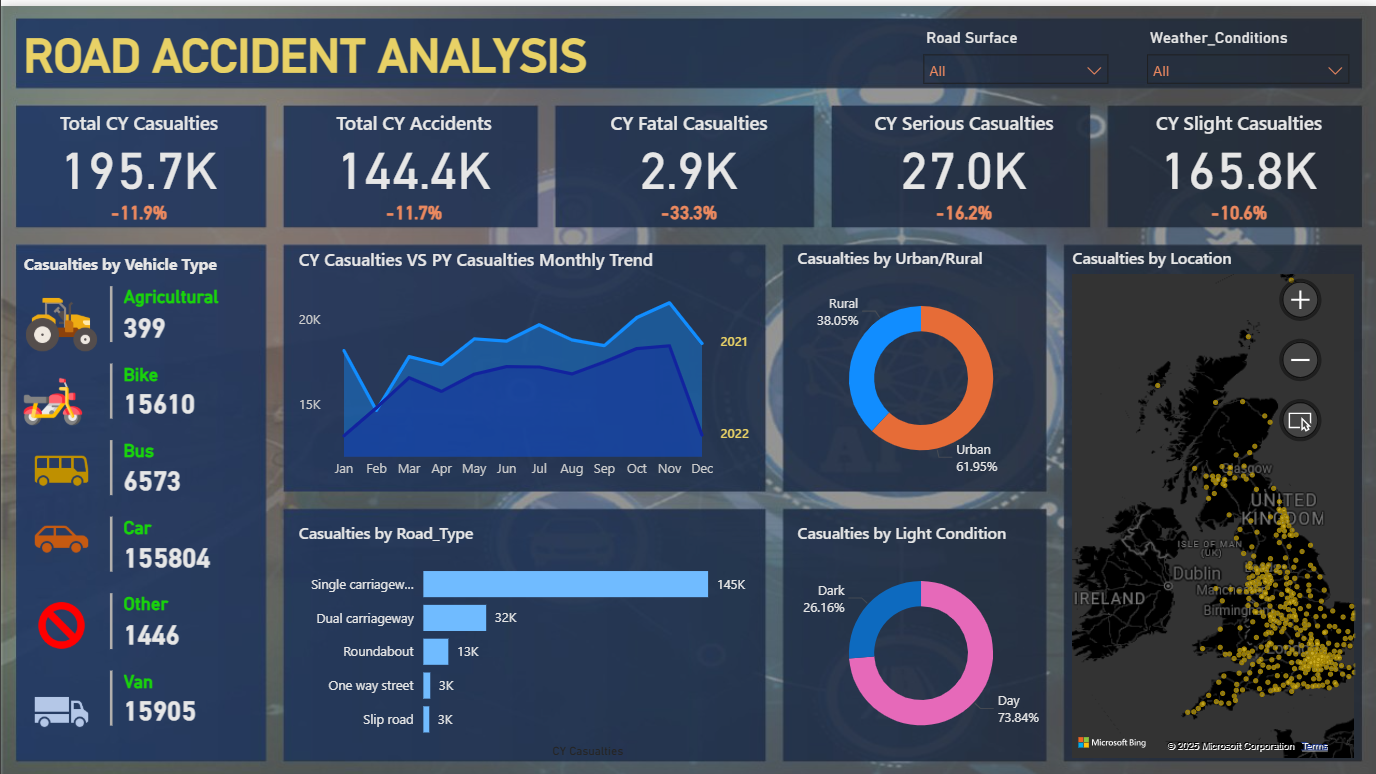

The dashboard page shown, as its layout file describes it:
{"tool":"powerbi","page":{"name":"Page 1","canvas":[1280,720],"ordinal":0},"visuals":[{"type":"group","id":"g1","title":"Group 1","box":[16,96,224,112],"z":0},{"type":"card","title":"Total CY Casualties","fields":{"Values":["Data.CY Casualties"]},"box":[16,96,224,80],"z":0,"group":"g1"},{"type":"card","title":"Total CY Accidents","fields":{"Values":["Data.CY Accidents"]},"box":[272,96,224,80],"z":0,"group":"g2"},{"type":"card","title":"CY Fatal Casualties","fields":{"Values":["Data.CY Casualties"]},"box":[528,96,224,80],"z":0,"group":"g3"},{"type":"card","title":"CY Serious Casualties","fields":{"Values":["Data.CY Casualties"]},"box":[784,96,224,80],"z":0,"group":"g4"},{"type":"card","title":"CY Slight Casualties","fields":{"Values":["Data.CY Casualties"]},"box":[1040,96,224,80],"z":0,"group":"g5"},{"type":"group","id":"g2","title":"Group 1","box":[272,96,224,112],"z":1000},{"type":"card","fields":{"Values":["Data.YOY Casualties"]},"box":[80,176,96,32],"z":1000,"group":"g1"},{"type":"card","fields":{"Values":["Data.YoY Accidents"]},"box":[336,176,96,32],"z":1000,"group":"g2"},{"type":"card","fields":{"Values":["Data.YOY Casualties"]},"box":[592,176,96,32],"z":1000,"group":"g3"},{"type":"card","fields":{"Values":["Data.YOY Casualties"]},"box":[848,176,96,32],"z":1000,"group":"g4"},{"type":"card","fields":{"Values":["Data.YOY Casualties"]},"box":[1104,176,96,32],"z":1000,"group":"g5"},{"type":"group","id":"g3","title":"Group 1","box":[528,96,224,112],"z":2000},{"type":"group","id":"g4","title":"Group 1","box":[784,96,224,112],"z":3000},{"type":"group","id":"g5","title":"Group 1","box":[1040,96,224,112],"z":4000},{"type":"textbox","box":[16,16,544,64],"z":5000},{"type":"multiRowCard","fields":{"Values":["Data.Vehicle_Type (groups)","Data.CY Casualties"]},"box":[96,256,144,448],"z":6000},{"type":"image","box":[16,336,64,64],"z":7000},{"type":"image","box":[16,400,80,64],"z":8000},{"type":"image","box":[16,624,80,64],"z":9000},{"type":"image","box":[16,256,80,80],"z":10000},{"type":"image","box":[16,544,80,64],"z":11000},{"type":"image","box":[16,464,80,64],"z":12000},{"type":"textbox","box":[16,224,208,32],"z":13000},{"type":"areaChart","title":"CY Casualties VS PY Casualties Monthly Trend","fields":{"Category":["Calendar.Month"],"Y":["Sum(Data.Number_of_Casualties)"],"Series":["Calendar.Date.Variation.Date Hierarchy.Year"]},"box":[272,224,432,224],"z":14000},{"type":"donutChart","title":"Casualties by Urban/Rural","fields":{"Category":["Data.Urban_or_Rural_Area"],"Y":["Data.CY Casualties"]},"box":[736,224,240,224],"z":15000},{"type":"donutChart","title":"Casualties by Light Condition","fields":{"Y":["Data.CY Casualties"],"Category":["Data.Light_Conditions (groups)"]},"box":[736,480,240,224],"z":16000},{"type":"barChart","title":"Casualties by Road_Type","fields":{"Category":["Data.Road_Type"],"Y":["Data.CY Casualties"]},"box":[272,480,432,224],"z":17000},{"type":"map","title":"Casualties by Location","fields":{"Y":["Data.Latitude"],"X":["Data.Longitude"],"Category":["Data.Local_Authority_(District)"]},"box":[992,224,272,480],"z":18000},{"type":"slicer","fields":{"Values":["Data.Weather_Conditions (groups)"]},"box":[1056,16,208,64],"z":19000},{"type":"slicer","fields":{"Values":["Data.Road_Surface_Conditions (groups)"]},"box":[848,16,192,64],"z":20000}]}

Visuals, with their boxes in screenshot pixels (x1, y1, x2, y2), scaled from the page's 1280x720 canvas onto the 1376x774 screenshot:
"Group 1" group: [x1=17, y1=103, x2=258, y2=224]
"Total CY Casualties" card: [x1=17, y1=103, x2=258, y2=189]
"Total CY Accidents" card: [x1=292, y1=103, x2=533, y2=189]
"CY Fatal Casualties" card: [x1=568, y1=103, x2=808, y2=189]
"CY Serious Casualties" card: [x1=843, y1=103, x2=1084, y2=189]
"CY Slight Casualties" card: [x1=1118, y1=103, x2=1359, y2=189]
"Group 1" group: [x1=292, y1=103, x2=533, y2=224]
card - Data.YOY Casualties: [x1=86, y1=189, x2=189, y2=224]
card - Data.YoY Accidents: [x1=361, y1=189, x2=464, y2=224]
card - Data.YOY Casualties: [x1=636, y1=189, x2=740, y2=224]
card - Data.YOY Casualties: [x1=912, y1=189, x2=1015, y2=224]
card - Data.YOY Casualties: [x1=1187, y1=189, x2=1290, y2=224]
"Group 1" group: [x1=568, y1=103, x2=808, y2=224]
"Group 1" group: [x1=843, y1=103, x2=1084, y2=224]
"Group 1" group: [x1=1118, y1=103, x2=1359, y2=224]
textbox: [x1=17, y1=17, x2=602, y2=86]
multiRowCard - Data.Vehicle_Type (groups) x Data.CY Casualties: [x1=103, y1=275, x2=258, y2=757]
image: [x1=17, y1=361, x2=86, y2=430]
image: [x1=17, y1=430, x2=103, y2=499]
image: [x1=17, y1=671, x2=103, y2=740]
image: [x1=17, y1=275, x2=103, y2=361]
image: [x1=17, y1=585, x2=103, y2=654]
image: [x1=17, y1=499, x2=103, y2=568]
textbox: [x1=17, y1=241, x2=241, y2=275]
"CY Casualties VS PY Casualties Monthly Trend" areaChart: [x1=292, y1=241, x2=757, y2=482]
"Casualties by Urban/Rural" donutChart: [x1=791, y1=241, x2=1049, y2=482]
"Casualties by Light Condition" donutChart: [x1=791, y1=516, x2=1049, y2=757]
"Casualties by Road_Type" barChart: [x1=292, y1=516, x2=757, y2=757]
"Casualties by Location" map: [x1=1066, y1=241, x2=1359, y2=757]
slicer - Data.Weather_Conditions (groups): [x1=1135, y1=17, x2=1359, y2=86]
slicer - Data.Road_Surface_Conditions (groups): [x1=912, y1=17, x2=1118, y2=86]
